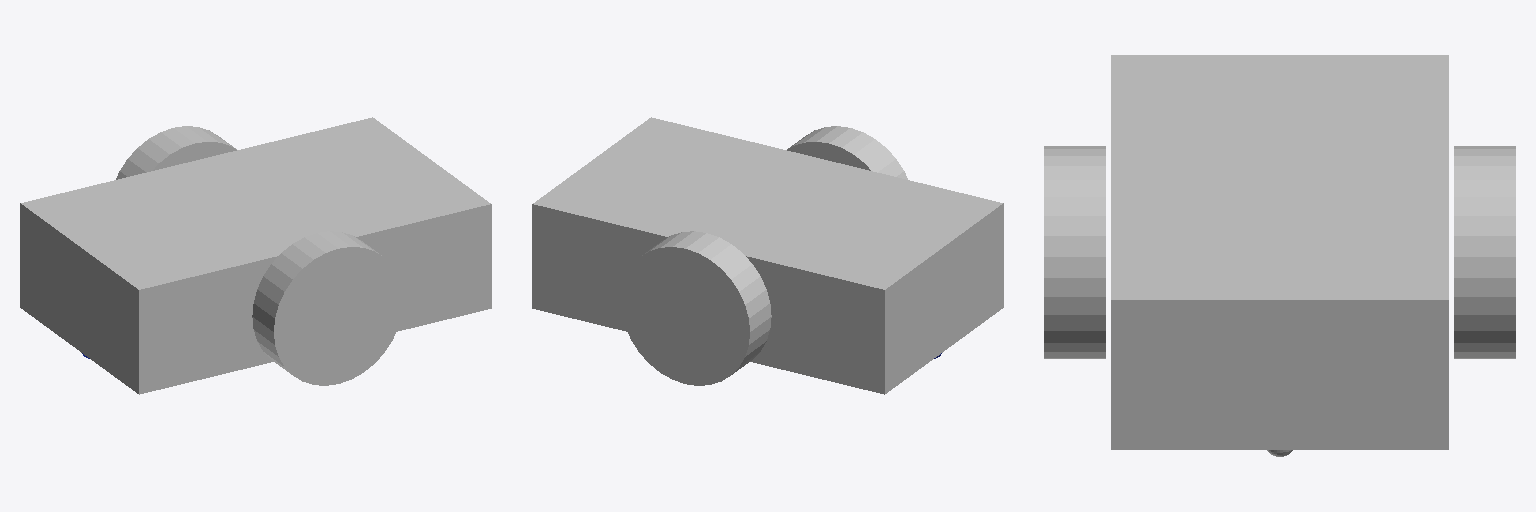
URDF robot description (test_bot):
<?xml version="1.0"?>
<!-- created with Phobos 1.0.1 "Capricious Choutengan" -->
  <robot name="test_bot">

    <link name="back_caster_link">
      <inertial>
        <origin xyz="0 0 0" rpy="0 0 0"/>
        <mass value="0.4"/>
        <inertia ixx="0.001" ixy="0" ixz="0" iyy="0.001" iyz="0" izz="0.001"/>
      </inertial>
      <visual name="back_caster">
        <origin xyz="0 0 0" rpy="0 0 0"/>
        <geometry>
          <mesh filename="package://blender_urdf_gen_tutorial/meshes/dae/Sphere.dae" scale="0.0577 0.0577 0.0577"/>
        </geometry>
      </visual>
      <collision name="Sphere.001">
        <origin xyz="0 0 -0.004" rpy="0 0 0"/>
        <geometry>
          <sphere radius="0.05733"/>
        </geometry>
      </collision>
    </link>

    <link name="base_link">
      <inertial>
        <origin xyz="0 0 0" rpy="0 0 0"/>
        <mass value="0.4"/>
        <inertia ixx="0.001" ixy="0" ixz="0" iyy="0.001" iyz="0" izz="0.001"/>
      </inertial>
      <visual name="base_body">
        <origin xyz="0 0 0" rpy="0 0 0"/>
        <geometry>
          <box size="2.0 1.16538 0.56767"/>
        </geometry>
        <material name="Material.003"/>
      </visual>
      <collision name="Cube">
        <origin xyz="0 0 0" rpy="0 0 0"/>
        <geometry>
          <box size="2.0 1.16538 0.56767"/>
        </geometry>
      </collision>
    </link>

    <link name="front_caster_link">
      <inertial>
        <origin xyz="0 0 0" rpy="0 0 0"/>
        <mass value="0.4"/>
        <inertia ixx="0.001" ixy="0" ixz="0" iyy="0.001" iyz="0" izz="0.001"/>
      </inertial>
      <visual name="front_caster">
        <origin xyz="0 0 0" rpy="0 0 0"/>
        <geometry>
          <mesh filename="package://blender_urdf_gen_tutorial/meshes/dae/Sphere.dae" scale="0.0577 0.0577 0.0577"/>
        </geometry>
        <material name="Material.004"/>
      </visual>
      <collision name="Sphere">
        <origin xyz="0 0 0.00113" rpy="0 0 0"/>
        <geometry>
          <sphere radius="0.05733"/>
        </geometry>
      </collision>
    </link>

    <link name="left_tyre_link">
      <inertial>
        <origin xyz="0 0 0" rpy="0 0 0"/>
        <mass value="0.4"/>
        <inertia ixx="0.001" ixy="0" ixz="0" iyy="0.001" iyz="0" izz="0.001"/>
      </inertial>
      <visual name="tyre_left">
        <origin xyz="0 0 0" rpy="1.5708 0 0"/>
        <geometry>
          <cylinder radius="0.36743" length="0.21095"/>
        </geometry>
        <material name="Material.004"/>
      </visual>
      <collision name="Cylinder.001">
        <origin xyz="0 0 0" rpy="1.5708 0 0"/>
        <geometry>
          <cylinder radius="0.36743" length="0.21095"/>
        </geometry>
      </collision>
    </link>

    <link name="right_tyre_link">
      <inertial>
        <origin xyz="0 0 0" rpy="0 0 0"/>
        <mass value="0.4"/>
        <inertia ixx="0.001" ixy="0" ixz="0" iyy="0.001" iyz="0" izz="0.001"/>
      </inertial>
      <visual name="tyre_right">
        <origin xyz="0 0 0" rpy="1.5708 0 0"/>
        <geometry>
          <cylinder radius="0.36743" length="0.21095"/>
        </geometry>
        <material name="Material.004"/>
      </visual>
      <collision name="Cylinder">
        <origin xyz="0 0 0" rpy="1.5708 0 0"/>
        <geometry>
          <cylinder radius="0.36743" length="0.21095"/>
        </geometry>
      </collision>
    </link>

    <joint name="back_caster_joint" type="fixed">
      <origin xyz="-0.93037 0 -0.28006" rpy="0 0 0"/>
      <parent link="base_link"/>
      <child link="back_caster_link"/>
    </joint>

    <joint name="front_caster_joint" type="fixed">
      <origin xyz="0.93274 0 -0.28006" rpy="0 0 0"/>
      <parent link="base_link"/>
      <child link="front_caster_link"/>
    </joint>

    <joint name="left_tyre_joint" type="continuous">
      <origin xyz="0 0.70626 0" rpy="0 0 0"/>
      <parent link="base_link"/>
      <child link="left_tyre_link"/>
      <axis xyz="0 1.0 0"/>
      <limit effort="50.0" velocity="3.141"/>
    </joint>

    <joint name="right_tyre_joint" type="continuous">
      <origin xyz="0 -0.70591 0" rpy="0 0 0"/>
      <parent link="base_link"/>
      <child link="right_tyre_link"/>
      <axis xyz="0 1.0 0"/>
      <limit effort="50.0" velocity="3.141"/>
    </joint>

    <material name="Material.003">
      <color rgba="0.8 0.8 0.8 1.0"/>
    </material>

    <material name="Material.004">
      <color rgba="0.8 0.8 0.8 1.0"/>
    </material>

  </robot>

--- Render facts (derived) ---
Views: 3 orthographic renders of the robot side by side, from view 1: azimuth 30°, elevation 25°; view 2: azimuth 150°, elevation 25°; view 3: azimuth 270°, elevation 25°.
Model test_bot with 5 links and 4 joints (2 continuous, 2 fixed), rooted at base_link, posed every joint at zero.
Links seen in each view (by area): view 1: base_link, right_tyre_link, left_tyre_link; view 2: base_link, left_tyre_link, right_tyre_link; view 3: base_link, left_tyre_link, right_tyre_link.
Boxes of the visible links, left/top/right/bottom form: base_link: left=20, top=117, right=491, bottom=394; right_tyre_link: left=252, top=231, right=402, bottom=385; left_tyre_link: left=116, top=126, right=236, bottom=179; base_link: left=532, top=117, right=1003, bottom=394; left_tyre_link: left=621, top=231, right=771, bottom=385; right_tyre_link: left=787, top=126, right=907, bottom=179; base_link: left=1111, top=55, right=1448, bottom=449; left_tyre_link: left=1454, top=146, right=1515, bottom=358; right_tyre_link: left=1044, top=146, right=1105, bottom=358.
Bounding box of the posed robot: 2 × 1.62 × 0.7349 m (x, y, z).
2 mesh visuals loaded from 1 distinct referenced files (1 Collada DAE).